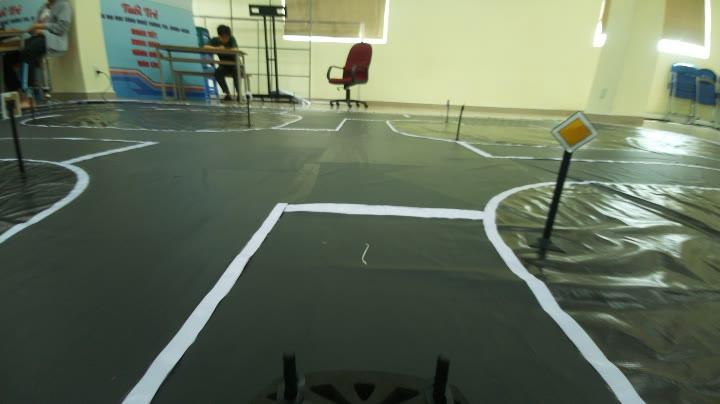priority: (550, 106, 602, 158)
